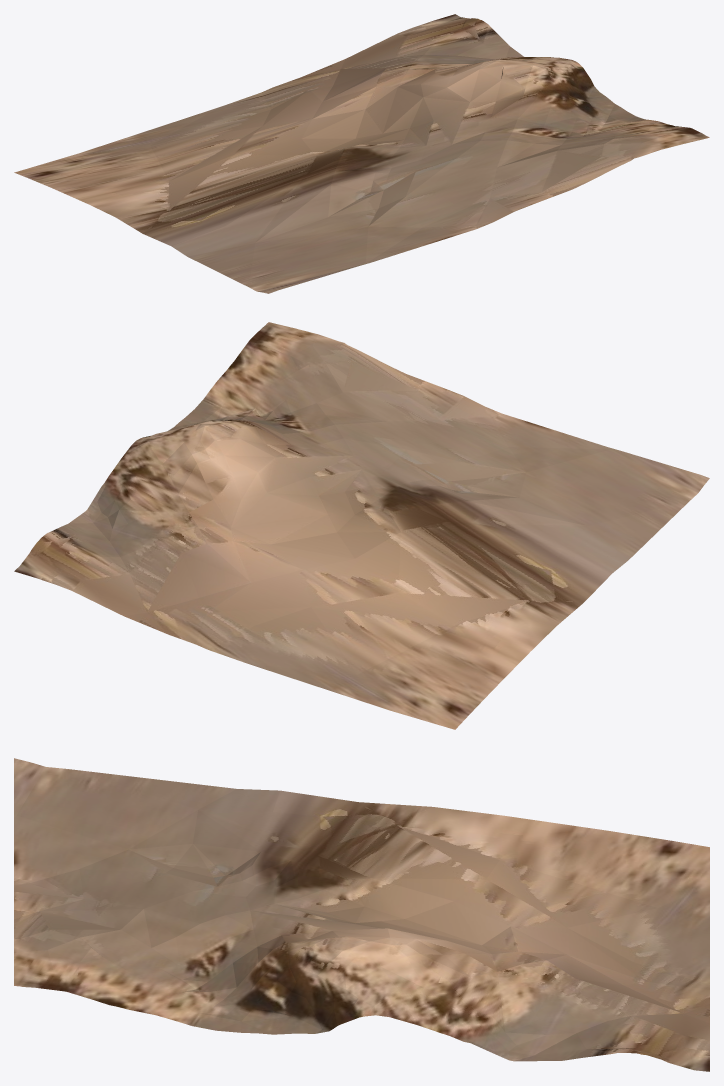
The picture shows the model from 3 angles, top to bottom: view 1: azimuth 30°, elevation 25°; view 2: azimuth 150°, elevation 25°; view 3: azimuth 270°, elevation 25°; orthographic projection. The views are drawn at different scales.
Size of the model in its own units: 1.04 by 0.2575 by 1.04.
2 materials, 2 textured.
